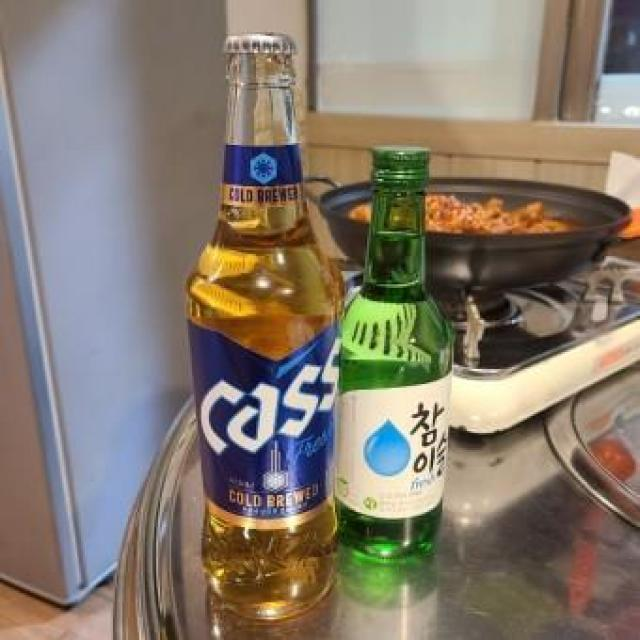beer-bottle: (186, 31, 350, 609)
soju-bottle: (338, 142, 466, 558)
